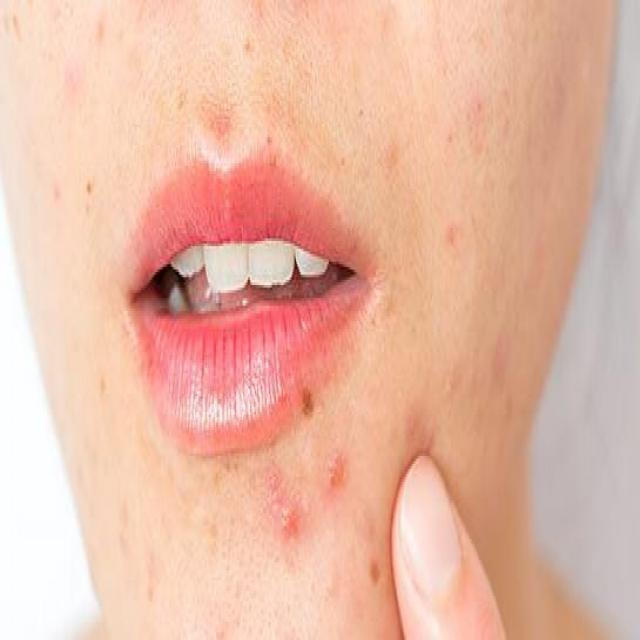blackheads: (280, 495, 300, 547), (328, 448, 348, 492), (299, 381, 315, 420), (86, 174, 100, 202), (94, 13, 107, 41)
